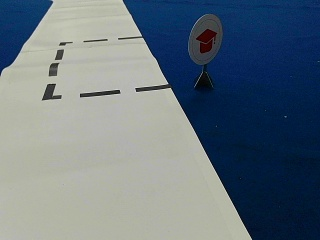school: (187, 15, 222, 64)
